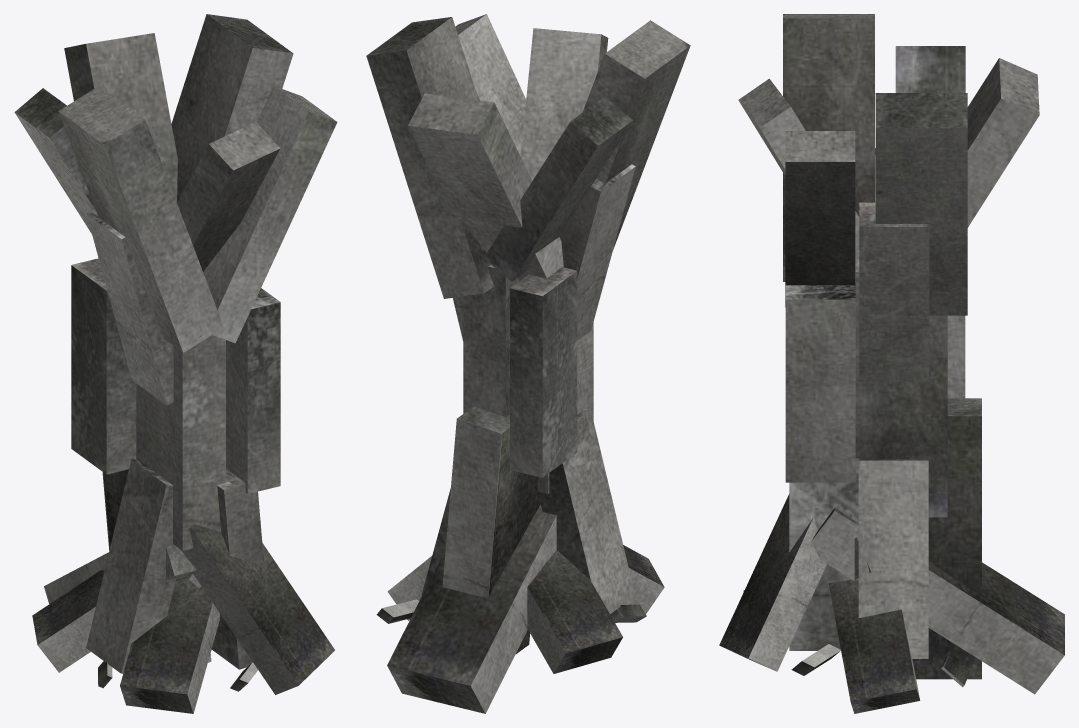
The model's file is R4_Obstacle.obj.
3 renders of one model, left to right at view 1: azimuth 30°, elevation 25°; view 2: azimuth 150°, elevation 25°; view 3: azimuth 270°, elevation 25°, orthographic.
Visible parts, largest first — view 1: Cube.002_Cube.001; view 2: Cube.002_Cube.001; view 3: Cube.002_Cube.001.
Boxes of the visible parts, x1,y1,x2,y2 form: Cube.002_Cube.001: [14, 14, 337, 713]; Cube.002_Cube.001: [366, 14, 690, 713]; Cube.002_Cube.001: [719, 14, 1064, 713].
Bounding box in the file's own units: 2.77 × 6.76 × 3.44.
1 material, 1 textured.
